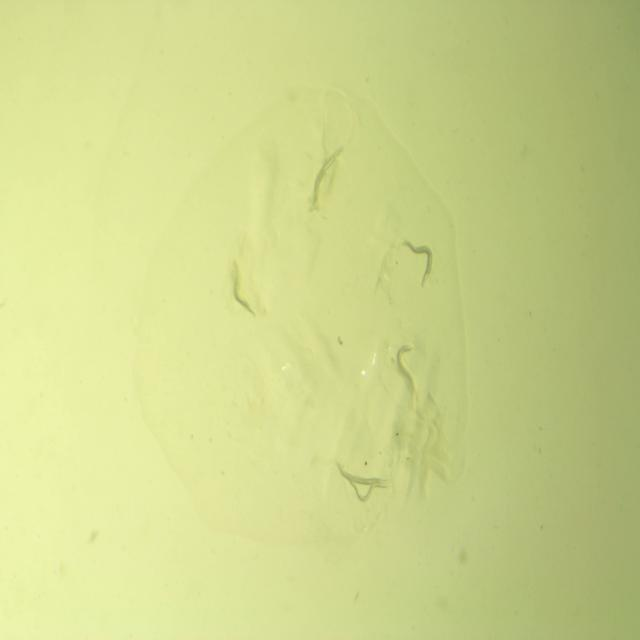worm: (307, 142, 348, 217), (224, 255, 260, 323), (399, 235, 435, 290), (333, 462, 391, 487), (396, 342, 418, 393), (345, 480, 391, 502)
